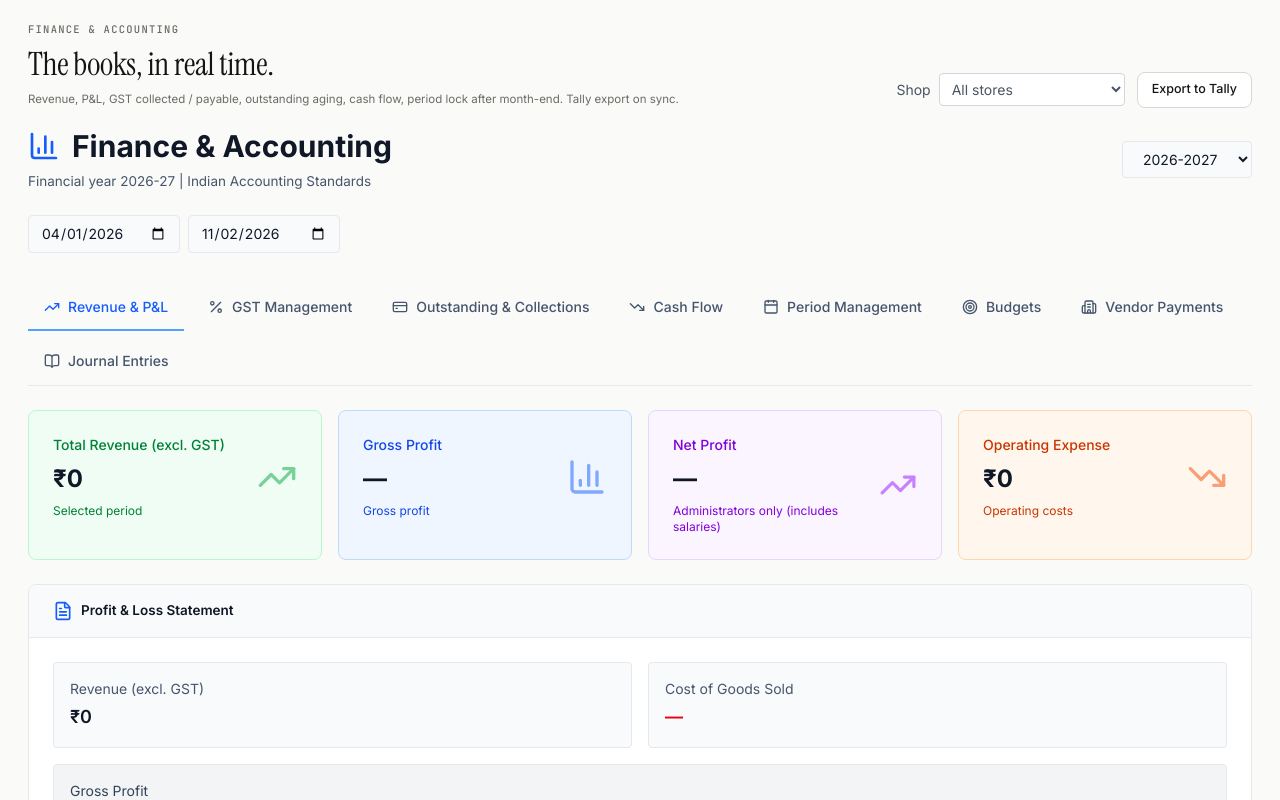
Scenario: Finance dashboard - one status rule for a supplier balance › Outstanding: advance, settled, part-paid and unpaid read as such
Click the button "Outstanding & Collections": (491, 308) [376,285,606,331]
(page scrolled)
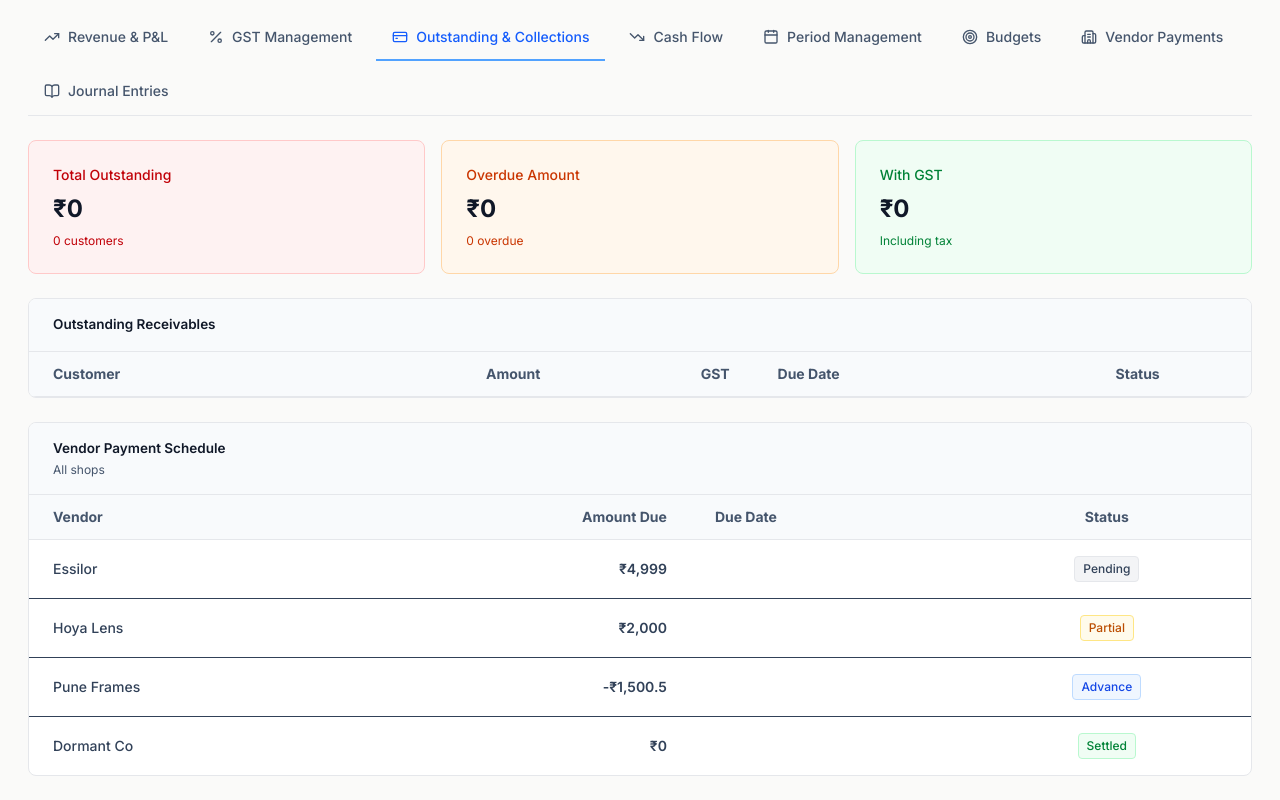
Expected: the text "Pune Frames" is shown, [29,658,363,717]
